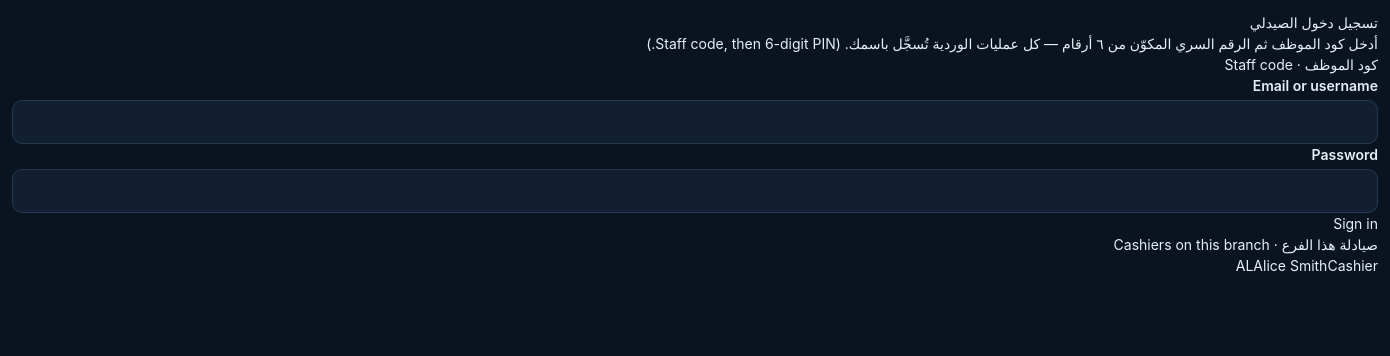
SignInRoute — cashier selection › Back button dismisses the PIN section
Click the button with test id "roster-item-0" at point(1307, 266), box [1236,255,1378,276]
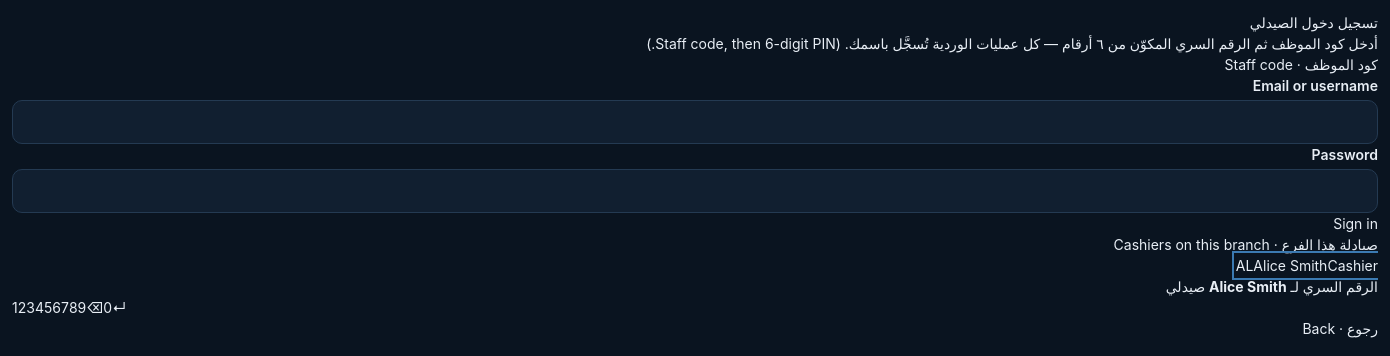
Click the button with test id "cashier-pin-cancel" at point(1340, 328), box [1302,318,1378,339]
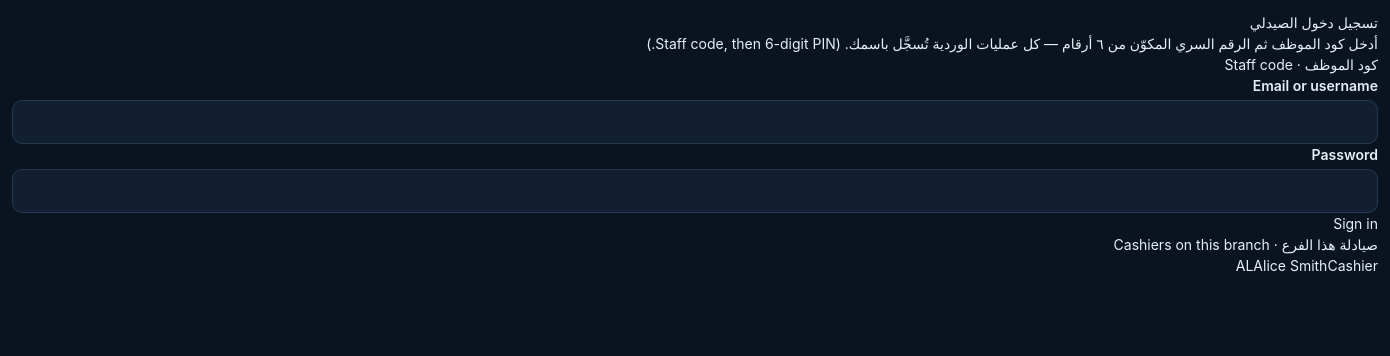
Check: the element with test id "pin-section" is gone
